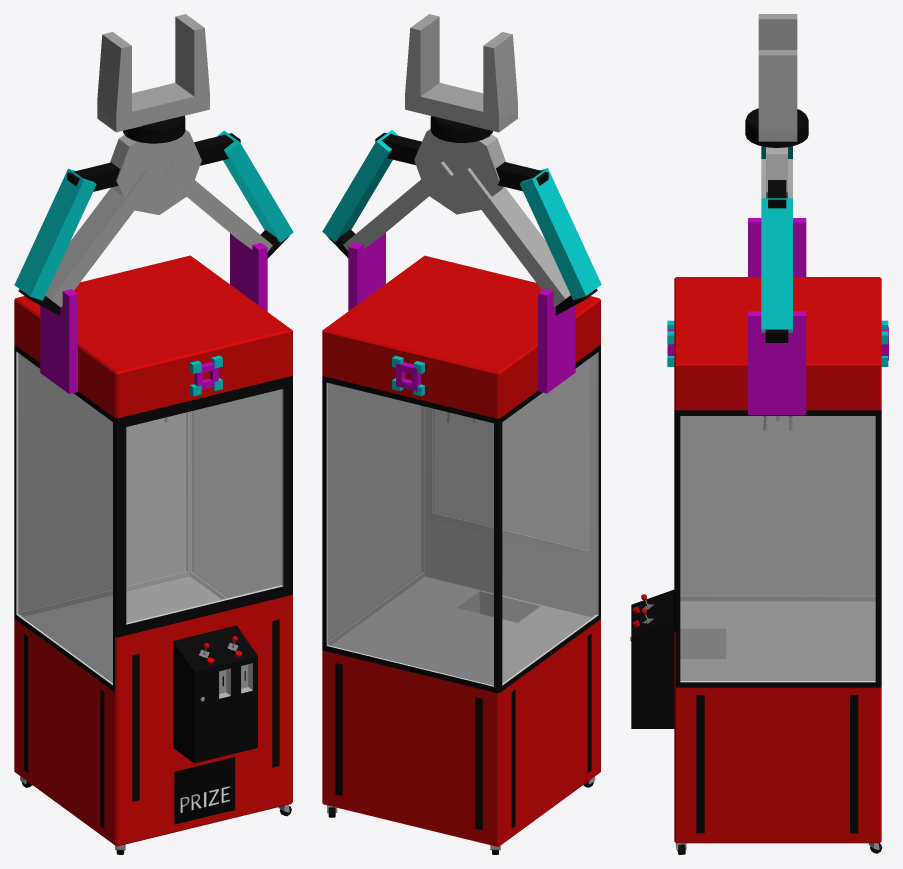
File: WW_clawmachine_prop.fbx
3 views of the same model, side by side, from view 1: azimuth 30°, elevation 25°; view 2: azimuth 150°, elevation 25°; view 3: azimuth 270°, elevation 25° (orthographic).
Visible parts, largest first — view 1: polySurface21, prize_door1, key_door; view 2: polySurface21; view 3: polySurface21.
Boxes of the visible parts, left/top/right/bottom form: polySurface21: left=14, top=14, right=293, bottom=854; prize_door1: left=174, top=757, right=234, bottom=824; key_door: left=194, top=667, right=213, bottom=730; polySurface21: left=322, top=14, right=601, bottom=854; polySurface21: left=631, top=14, right=888, bottom=854.
Bounding box in the file's own units: 94.88 × 265 × 79.81.
